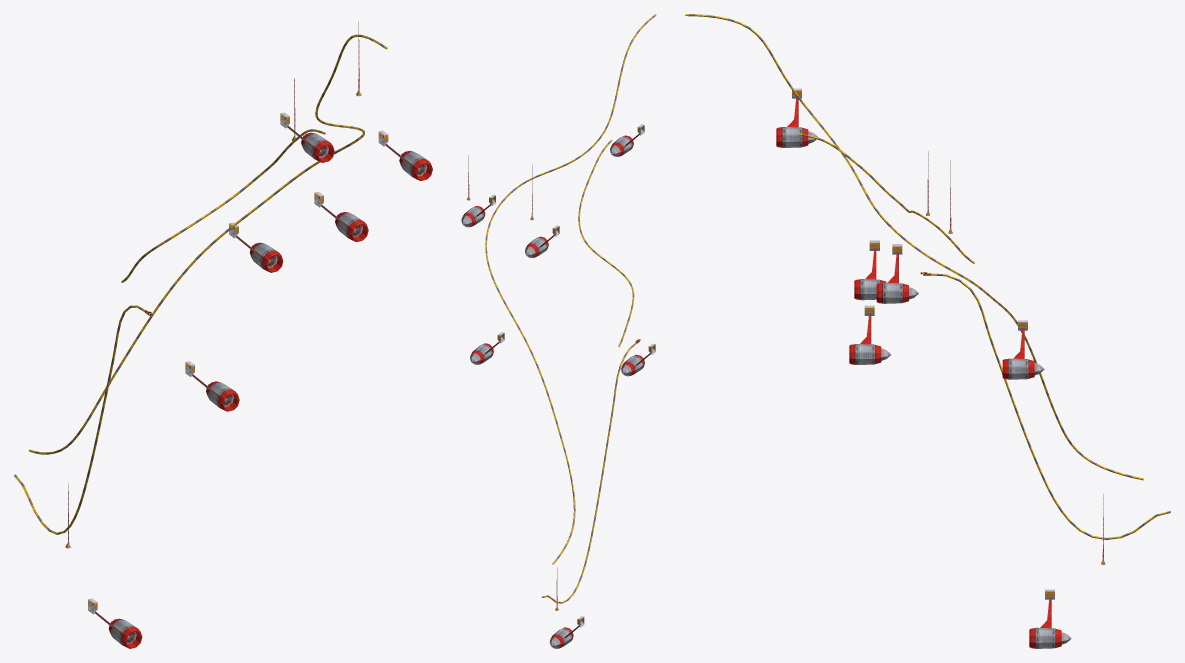
3 renders of one model, left to right at view 1: azimuth 30°, elevation 25°; view 2: azimuth 150°, elevation 25°; view 3: azimuth 270°, elevation 25°, orthographic. The views are drawn at different scales.
Parts seen in each view (by area): view 1: s13_on_02_9, s13_on_02_2, s13_on_02_6, s13_on_02_0; view 2: s13_on_02_9, s13_on_02_2, s13_on_02_6, s13_on_02_4, s13_on_02_0; view 3: s13_on_02_9, s13_on_02_2, s13_on_02_6.
Boxes of the visible parts, box(x1,y1,x2,y2) form: s13_on_02_9: box(14, 34, 387, 534); s13_on_02_2: box(95, 127, 432, 648); s13_on_02_6: box(111, 133, 426, 644); s13_on_02_0: box(65, 91, 388, 614); s13_on_02_9: box(485, 14, 656, 603); s13_on_02_2: box(461, 135, 646, 648); s13_on_02_6: box(465, 136, 643, 645); s13_on_02_4: box(462, 145, 631, 647); s13_on_02_0: box(466, 125, 655, 627); s13_on_02_9: box(685, 14, 1170, 539); s13_on_02_2: box(776, 97, 1061, 648); s13_on_02_6: box(783, 127, 1054, 648).
Bounding box in the file's own units: 1228 × 3255 × 2161.
Materials: 11 (11 with a texture image).
